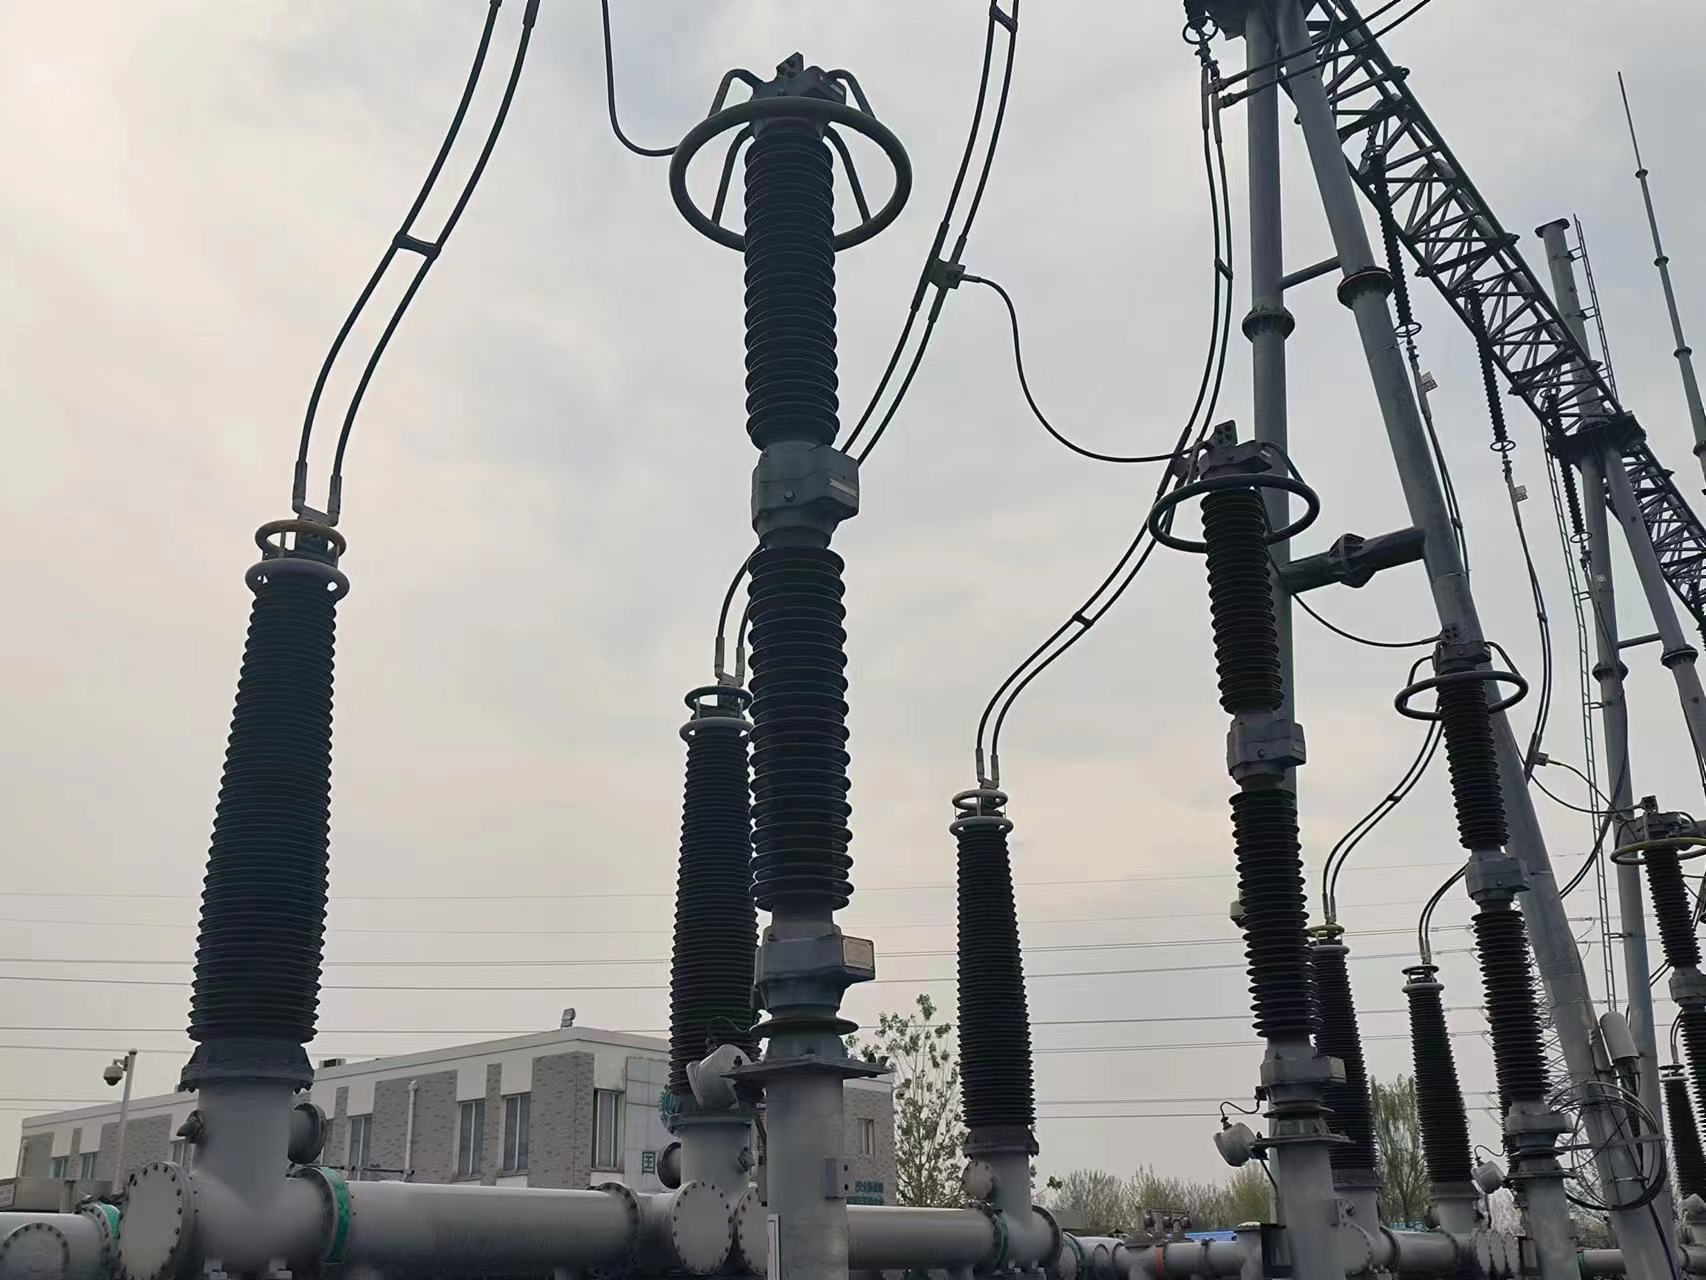Arrester: (661, 44, 916, 1000), (1145, 434, 1352, 1093), (1393, 635, 1573, 1135)
Voltage transformer: (183, 515, 350, 1082), (665, 680, 761, 1129), (938, 785, 1049, 1155)
